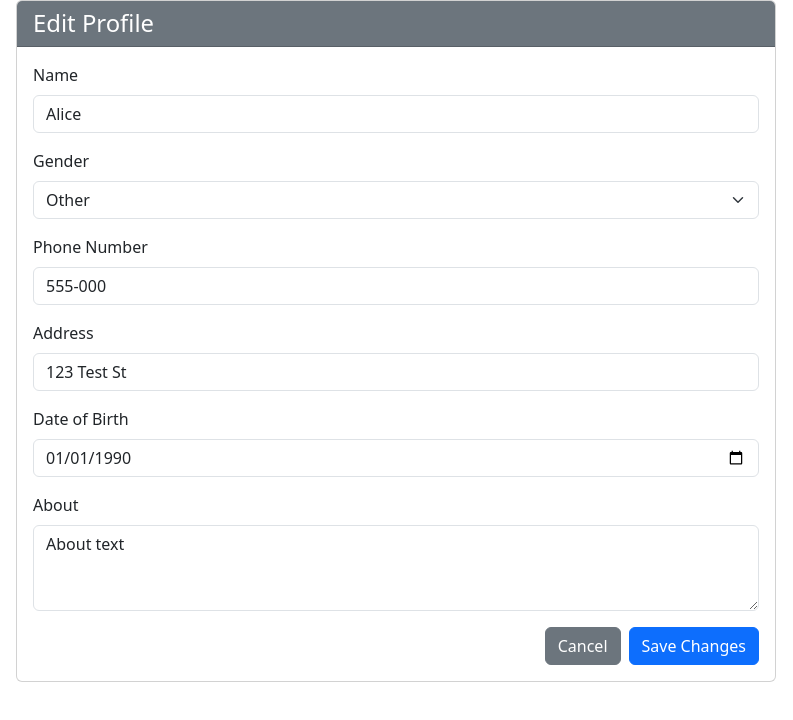
Test: <EditProfileForm /> › shows a generic error when there is no server response
This screenshot has width=793, height=720.
Step 1. Replace the text in the text box labelled "About" with "New about" → (396, 568), box [33,525,759,611]
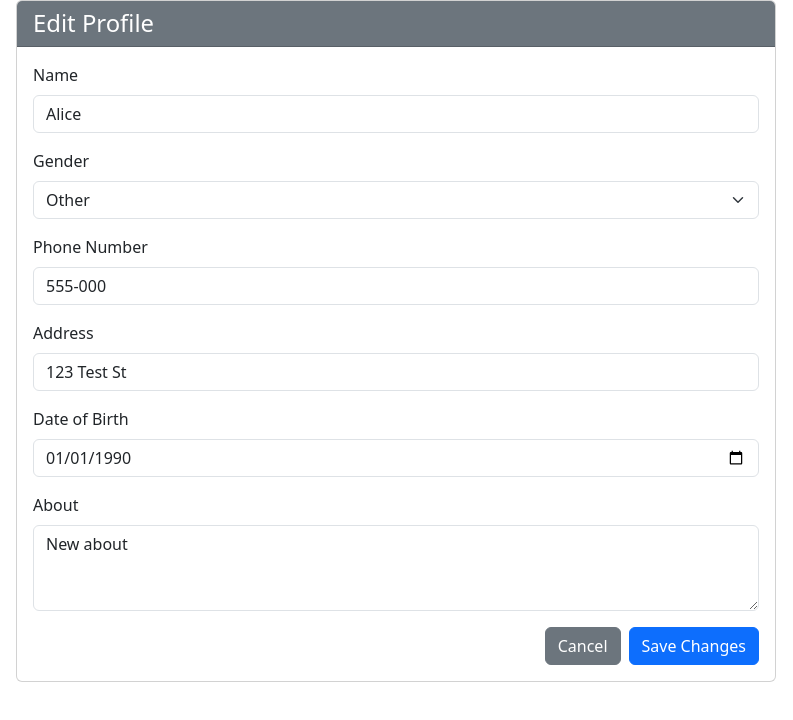
Step 2. Click the button "Save Changes" → (694, 646), box [628,627,759,665]
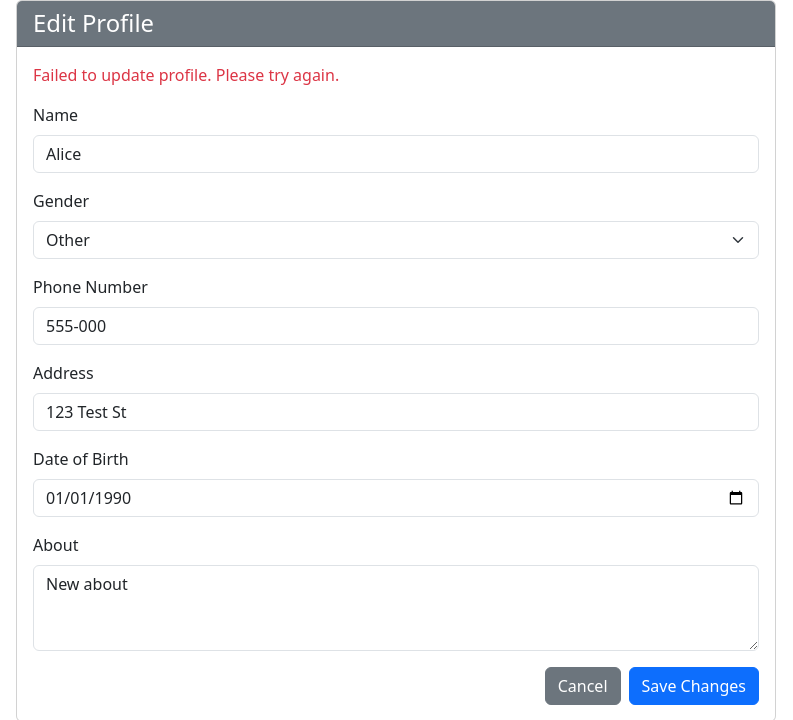
Result: the text "Failed to update profile. Please try again." is shown at [33,64,339,86]
